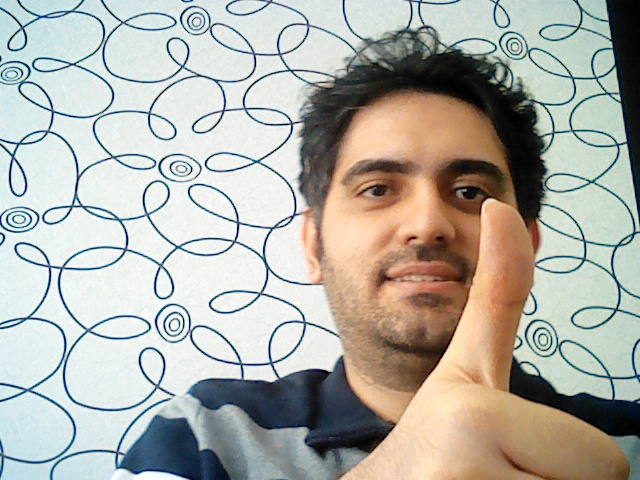ThumbUp: (357, 196, 633, 480)
